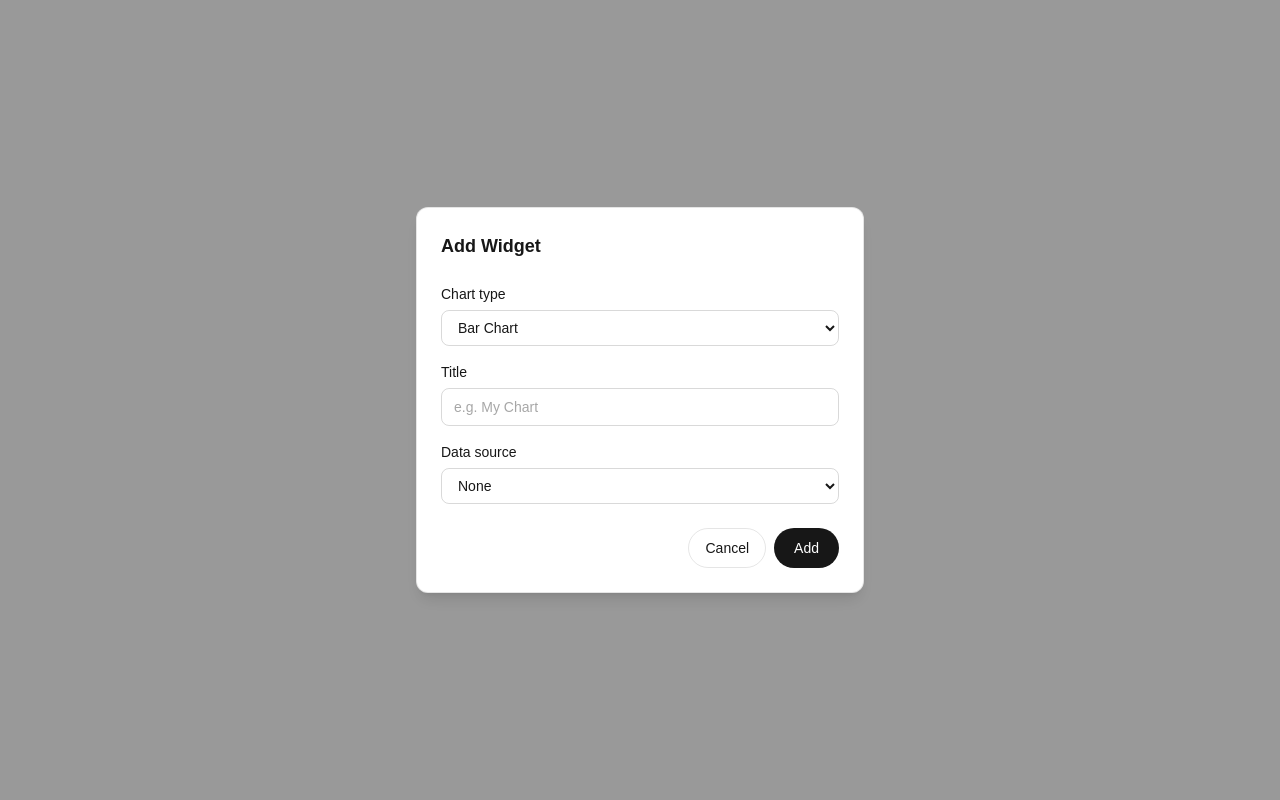
Test: AddWidgetDialog › 正常系: アクション失敗時のエラー表示 › アクションが error を返したときエラーメッセージが表示される
The image size is (1280, 800).
Click the button "Add" at (807, 548), box 774,528 -> 839,568
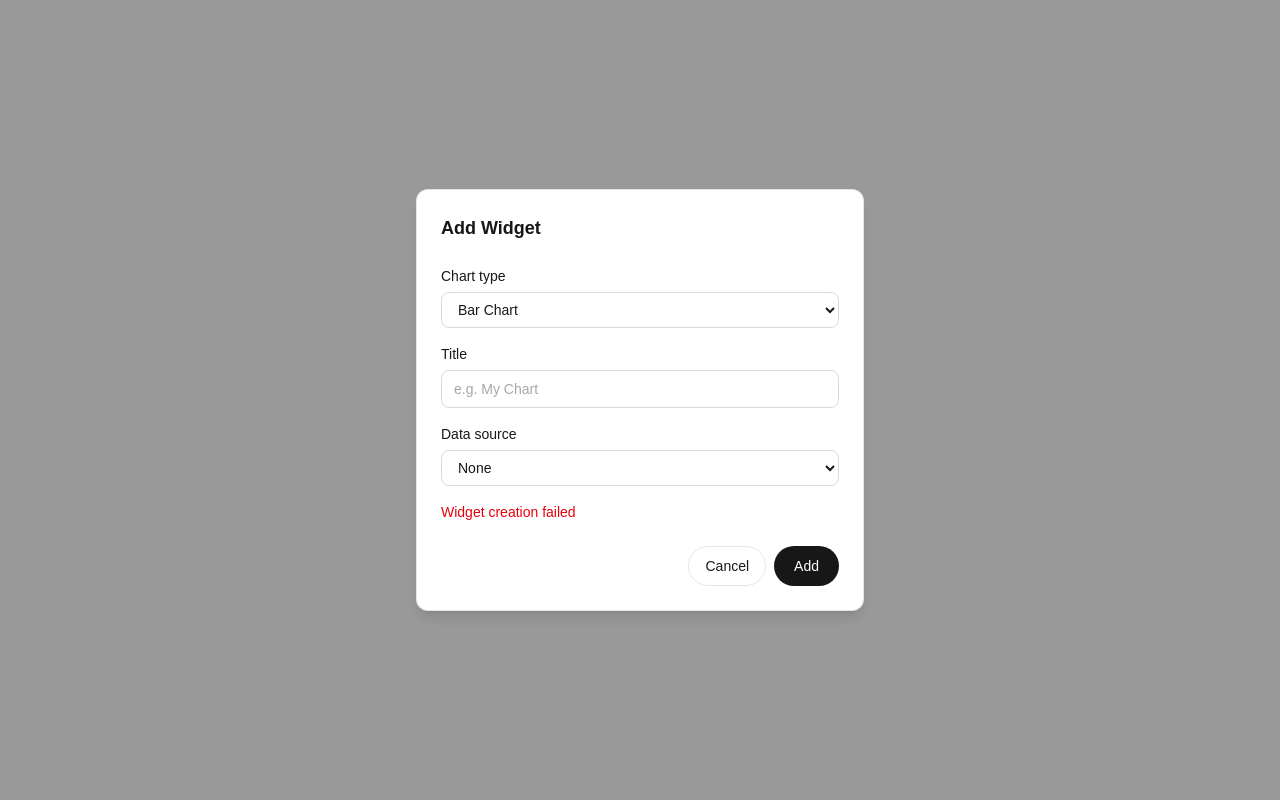
Check: the text "Widget creation failed" is shown, box 441,504 -> 576,520
